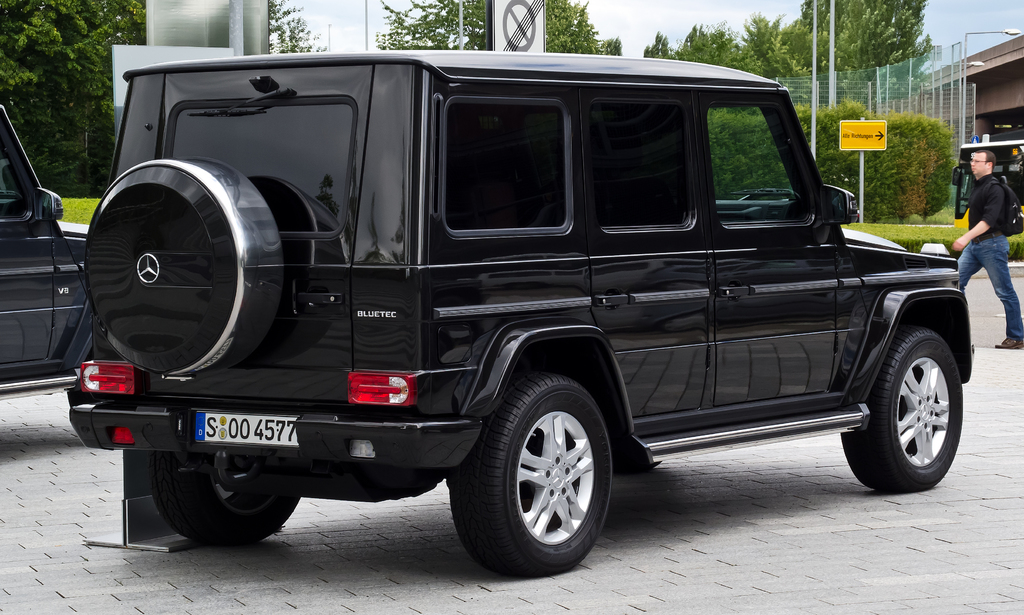mobil: (59, 45, 987, 595)
